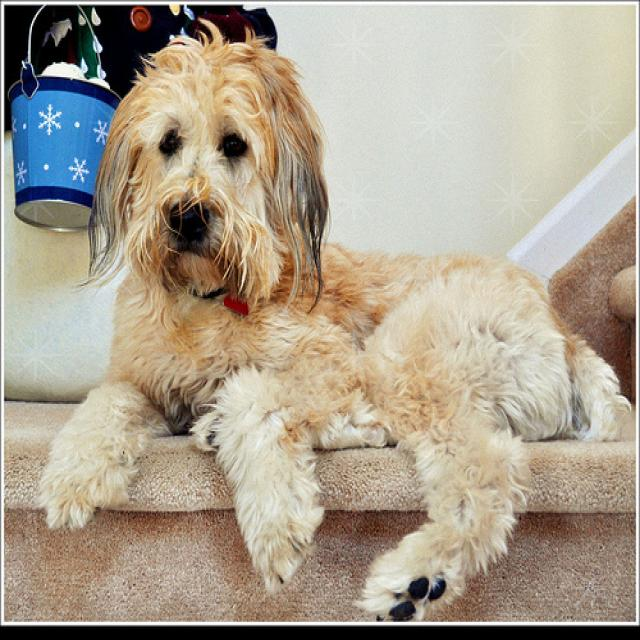dog-wheaten_terrier: (32, 8, 637, 628)
